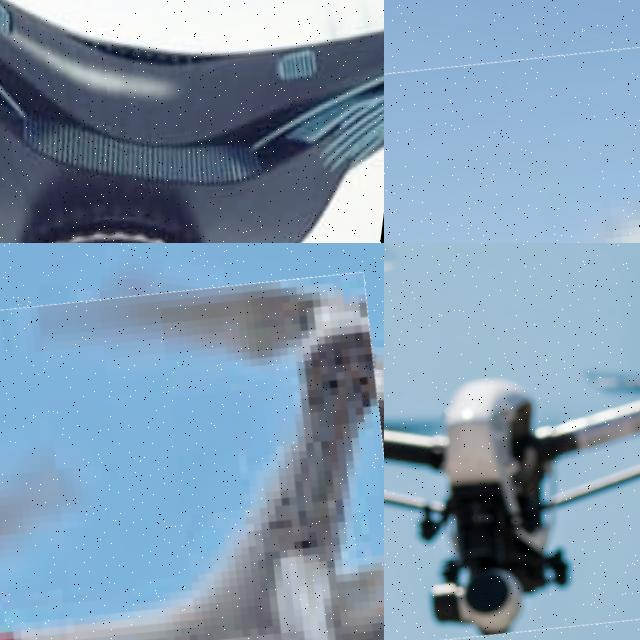drone: (0, 243, 384, 640), (384, 243, 640, 640), (0, 0, 384, 243), (384, 0, 640, 243)
